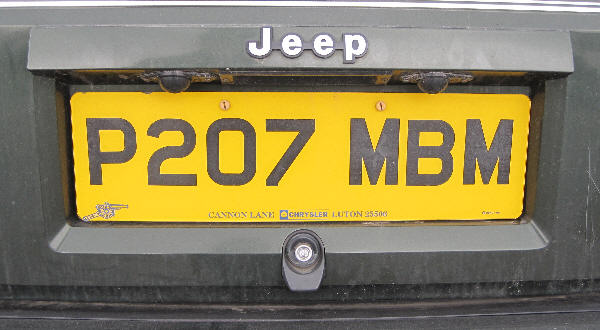license_plate: (67, 92, 532, 221)
